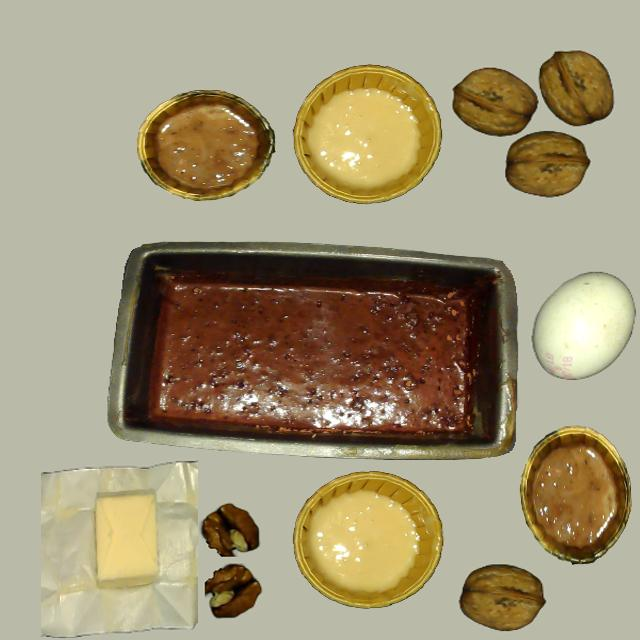Walnut: (538, 50, 614, 127), (452, 68, 537, 136), (459, 565, 546, 631), (505, 130, 590, 196)
